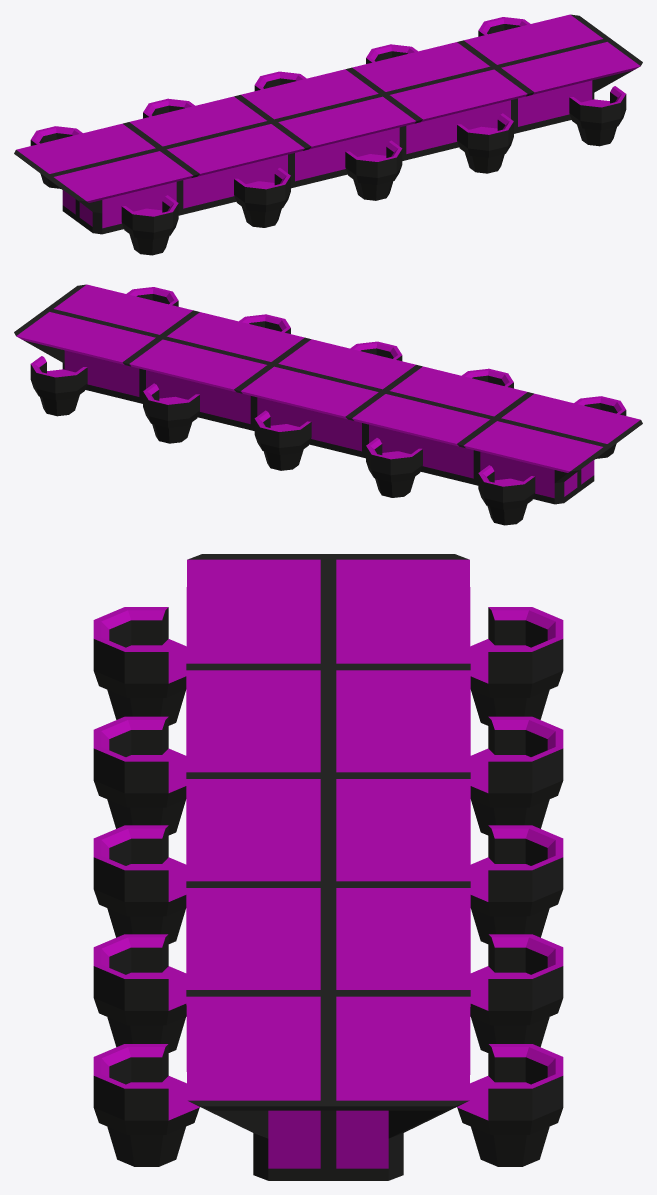
The model's file is Diner_Table_Large.fbx.
3 views of the same model, one above another, from view 1: azimuth 30°, elevation 25°; view 2: azimuth 150°, elevation 25°; view 3: azimuth 270°, elevation 25° (orthographic). The views are drawn at different scales.
Visible parts, largest first — view 1: Diner_Table_Large; view 2: Diner_Table_Large; view 3: Diner_Table_Large.
Part boxes in pixels (x1=…): Diner_Table_Large: x1=14, y1=14, x2=642, y2=255; Diner_Table_Large: x1=14, y1=284, x2=642, y2=525; Diner_Table_Large: x1=93, y1=554, x2=563, y2=1180.
Size of the model in its own units: 15.53 by 5.59 by 1.39.
